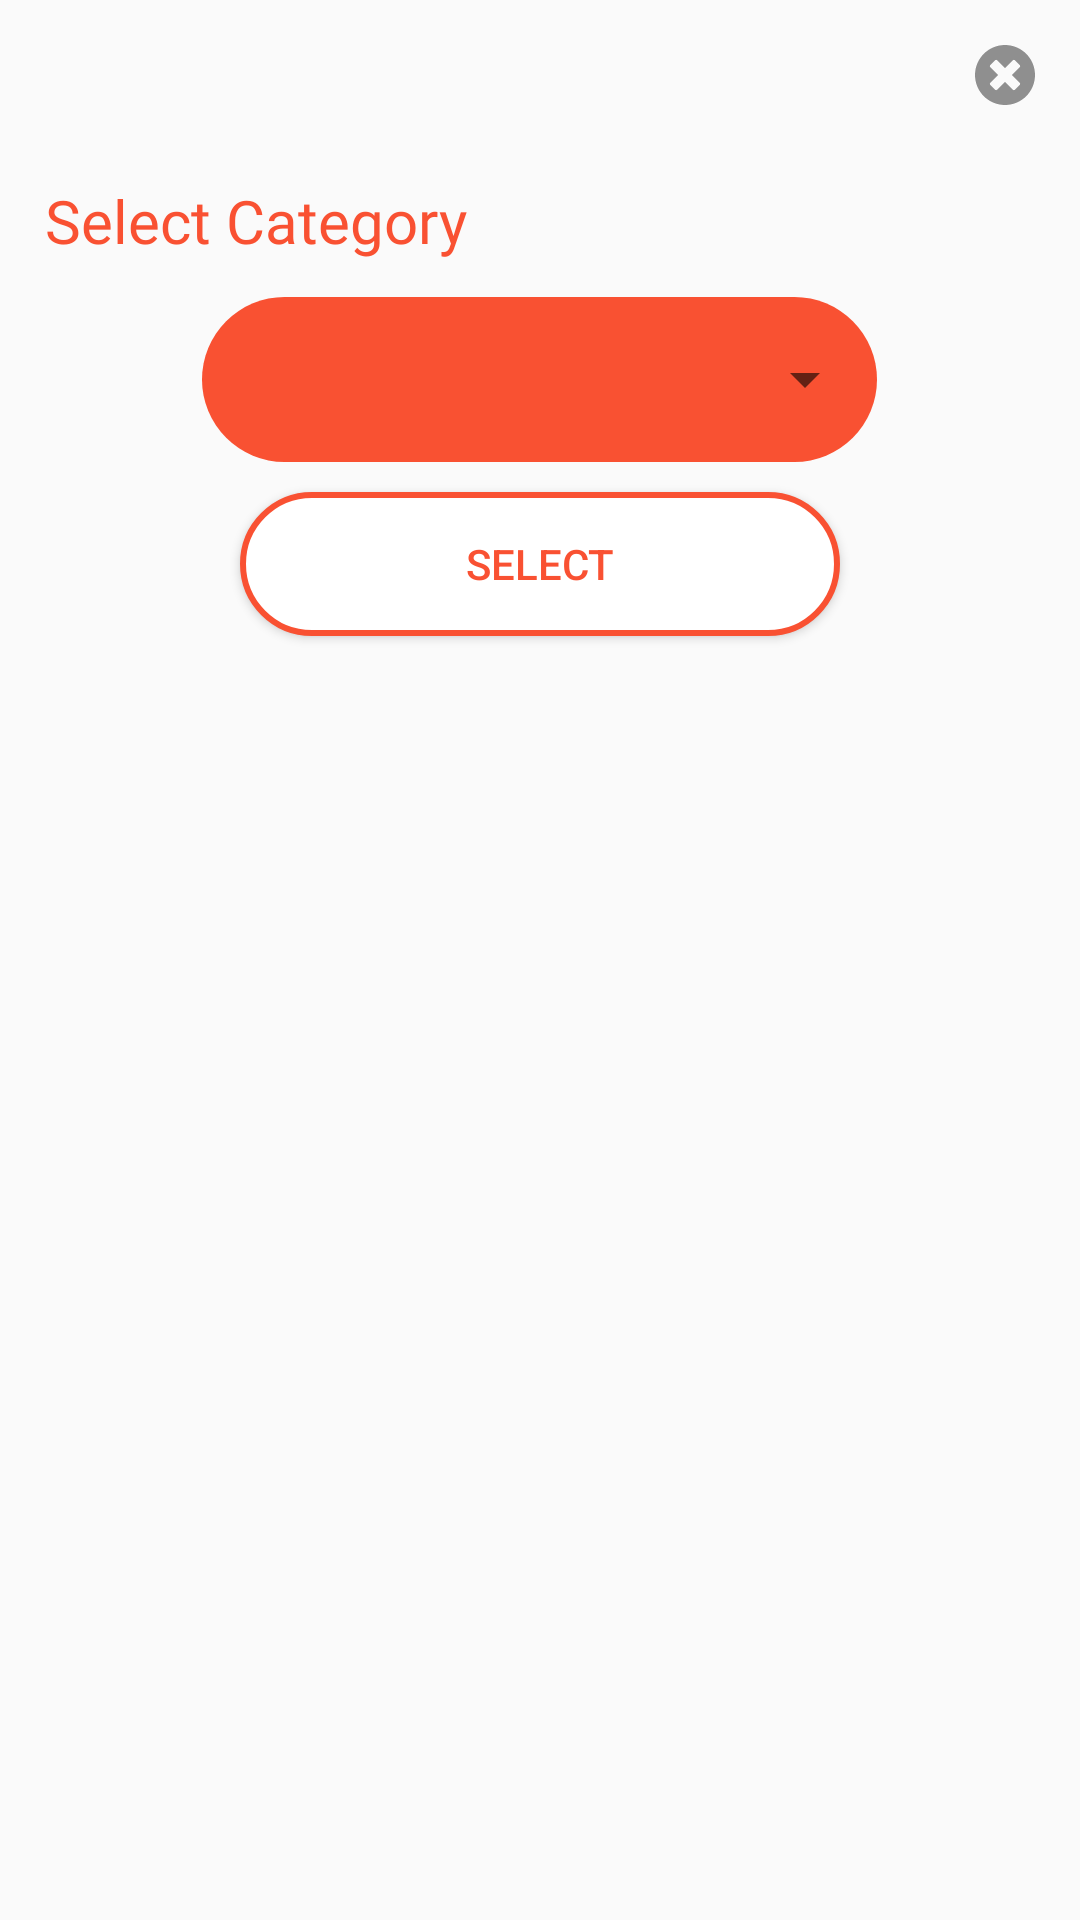

Icon click points for this 1080×1920 phone screenshot, format (x,y):
cancel: (1005,75)
